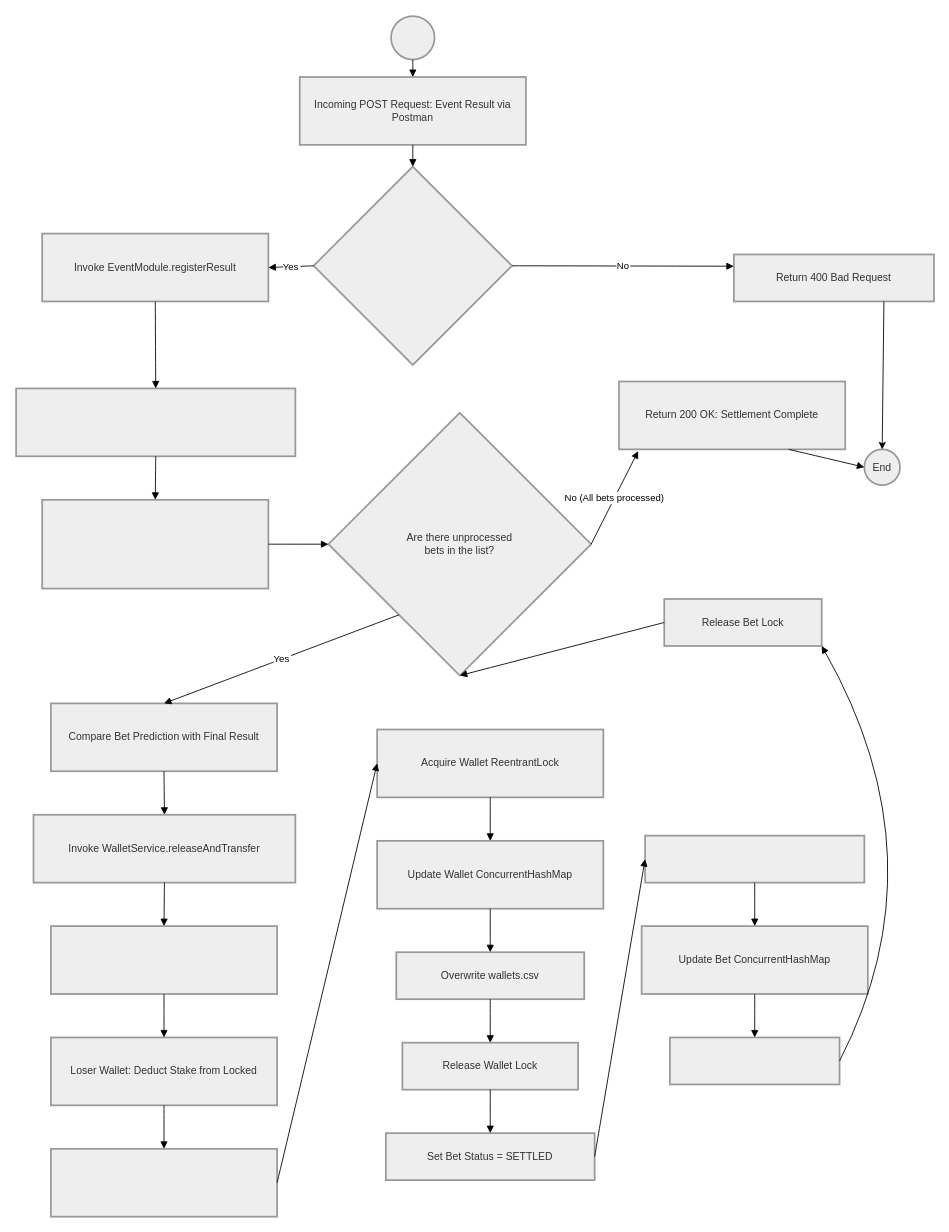
Some shapes in this 949 by 1232 pixel diagram are drawn without their labels. The shapes that lost their labels are listed below. From the top down, each one's centre as x and y in pixels, then its label:
[412,37]: Start
[412,265]: Is EventResultDTO Valid?
[155,422]: Invoke SettlementEngine.triggerSettlement
[155,544]: Fetch MATCHED Bets for EventID from Memory Cache
[754,858]: Acquire Bet ReentrantLock
[164,959]: Winner Wallet: Move Stake from Locked to Available
[754,1060]: Overwrite bets.csv
[164,1182]: Winner Wallet: Add Loser's Stake to Available
